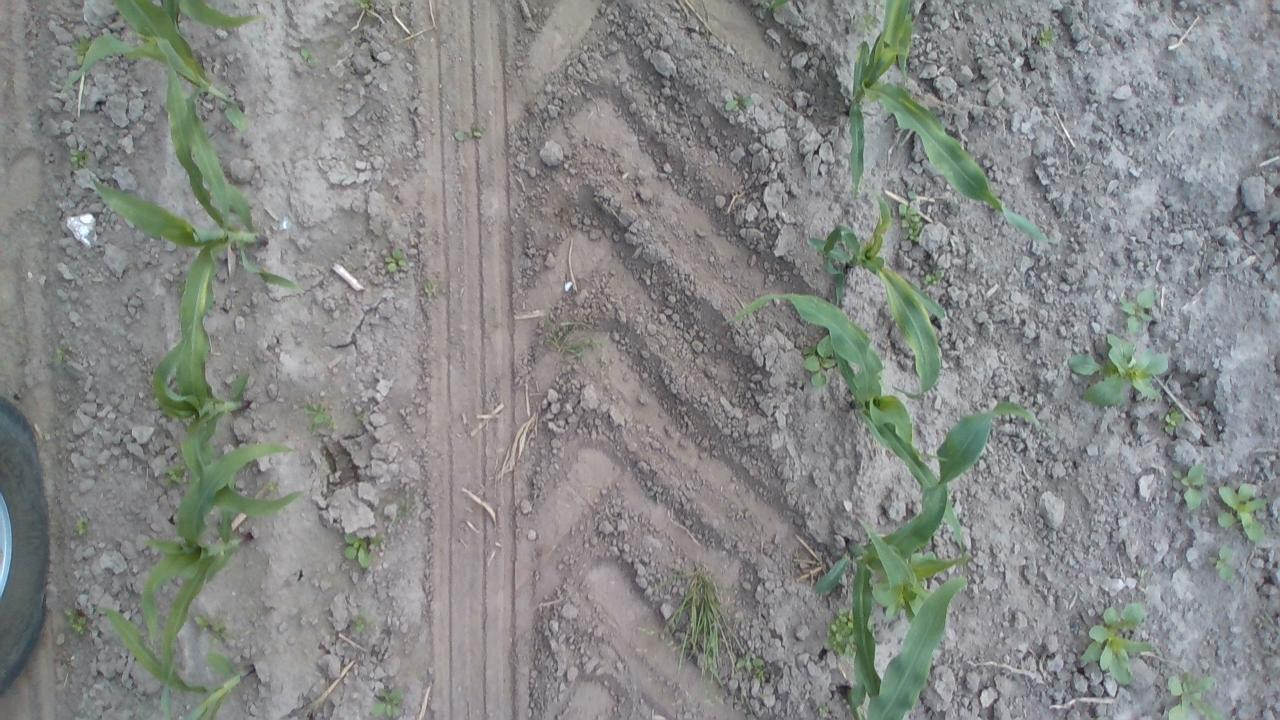Maize: (810, 398, 1042, 708), (719, 292, 970, 554), (92, 40, 305, 296), (839, 0, 1048, 244), (146, 240, 309, 516), (135, 434, 299, 708), (806, 192, 948, 398), (63, 0, 261, 136), (100, 602, 258, 720), (844, 576, 966, 720), (767, 0, 789, 13)
Weeds: (649, 558, 746, 690), (1066, 330, 1170, 413), (1078, 598, 1154, 688), (539, 311, 600, 370), (1216, 481, 1267, 546), (1164, 666, 1221, 720), (1114, 279, 1160, 338), (799, 334, 834, 394), (340, 530, 385, 572), (1172, 462, 1209, 512), (823, 608, 857, 656), (895, 192, 924, 241), (368, 686, 406, 720), (191, 613, 229, 645), (1208, 542, 1238, 582), (303, 400, 332, 435), (734, 652, 768, 681), (452, 120, 489, 143), (63, 605, 88, 637), (855, 8, 883, 36), (1158, 406, 1184, 436), (159, 459, 186, 487), (722, 93, 754, 115), (385, 245, 408, 274), (350, 606, 372, 635), (1036, 22, 1059, 49), (68, 145, 90, 173), (300, 46, 322, 71), (68, 515, 90, 538), (53, 341, 70, 368), (419, 278, 437, 302), (74, 34, 88, 63), (922, 269, 944, 287), (357, 0, 375, 12), (818, 706, 832, 720)
